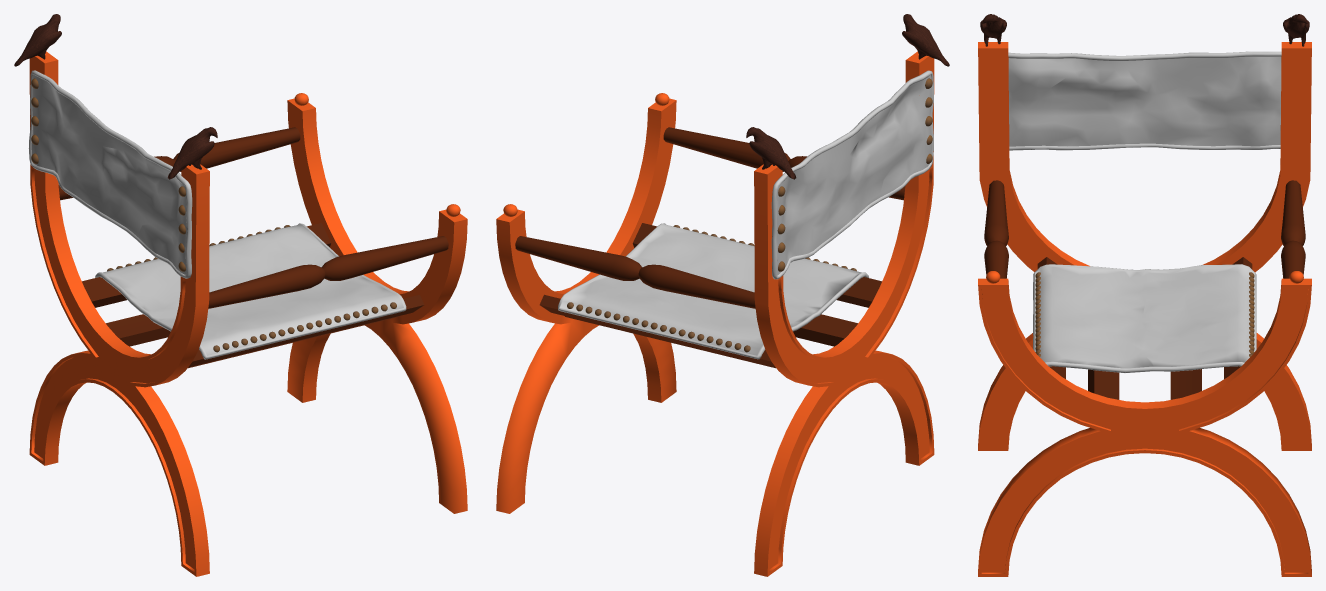
File: Ancient_Chair_Low.fbx
3 views of the same model, side by side, from view 1: azimuth 30°, elevation 25°; view 2: azimuth 150°, elevation 25°; view 3: azimuth 270°, elevation 25° (orthographic).
Parts seen in each view (by area): view 1: Base_Final, Leather_Seat_Final, Leather_Back_Final, Armrests_Final, Seat_Bars_Final, Eagles_Final, Buttons_Seat_Final, Buttons_Back_Final; view 2: Base_Final, Leather_Seat_Final, Leather_Back_Final, Armrests_Final, Seat_Bars_Final, Eagles_Final, Buttons_Seat_Final, Buttons_Back_Final; view 3: Base_Final, Leather_Back_Final, Leather_Seat_Final, Armrests_Final, Seat_Bars_Final, Eagles_Final, Buttons_Seat_Final.
Part boxes in pixels (left/top/right/bottom): Base_Final: left=29, top=51, right=467, bottom=576; Leather_Seat_Final: left=95, top=223, right=406, bottom=359; Leather_Back_Final: left=28, top=70, right=192, bottom=278; Armrests_Final: left=58, top=127, right=448, bottom=308; Seat_Bars_Final: left=82, top=223, right=424, bottom=368; Eagles_Final: left=14, top=14, right=217, bottom=179; Buttons_Seat_Final: left=107, top=225, right=396, bottom=352; Buttons_Back_Final: left=31, top=78, right=185, bottom=271; Base_Final: left=496, top=51, right=934, bottom=576; Leather_Seat_Final: left=558, top=223, right=868, bottom=359; Leather_Back_Final: left=771, top=70, right=933, bottom=279; Armrests_Final: left=515, top=127, right=905, bottom=308; Seat_Bars_Final: left=539, top=223, right=881, bottom=368; Eagles_Final: left=746, top=14, right=949, bottom=179; Buttons_Seat_Final: left=567, top=225, right=856, bottom=352; Buttons_Back_Final: left=777, top=78, right=932, bottom=271; Base_Final: left=978, top=42, right=1311, bottom=576; Leather_Back_Final: left=1008, top=51, right=1281, bottom=150; Leather_Seat_Final: left=1033, top=264, right=1256, bottom=372; Armrests_Final: left=984, top=180, right=1305, bottom=278; Seat_Bars_Final: left=1037, top=257, right=1252, bottom=399; Eagles_Final: left=980, top=14, right=1309, bottom=46; Buttons_Seat_Final: left=1035, top=272, right=1254, bottom=356.
Size of the model in its own units: 61.06 by 87.75 by 60.31.
